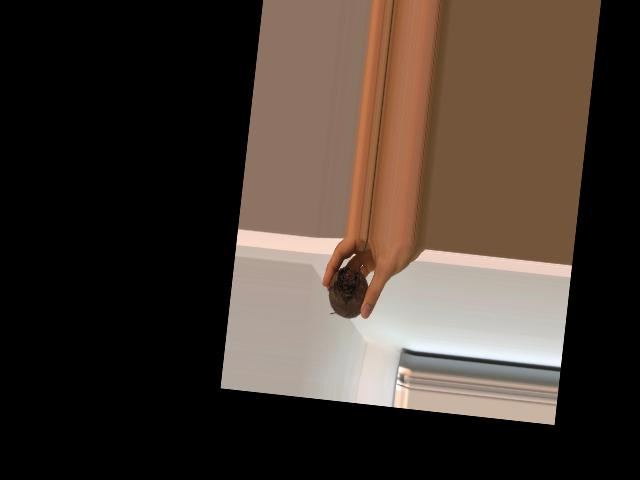beet: (324, 235, 374, 321)
